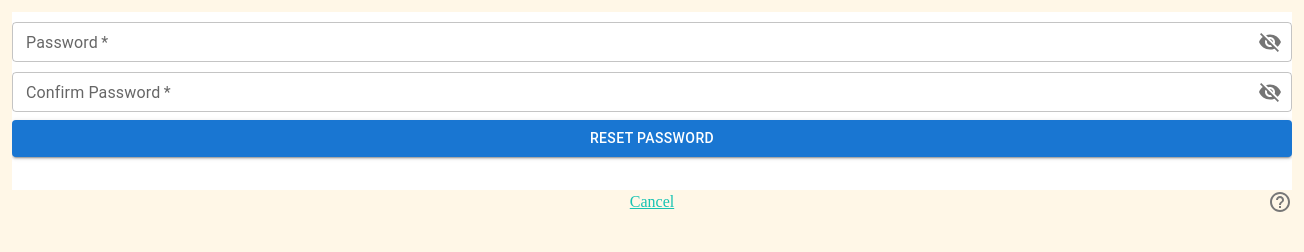
Test case: PasswordResetForm › shows passwords do not match
The image size is (1304, 252).
Type "fds" into the password field labelled "Confirm Password *" at (627, 92), box [12, 72, 1242, 112]
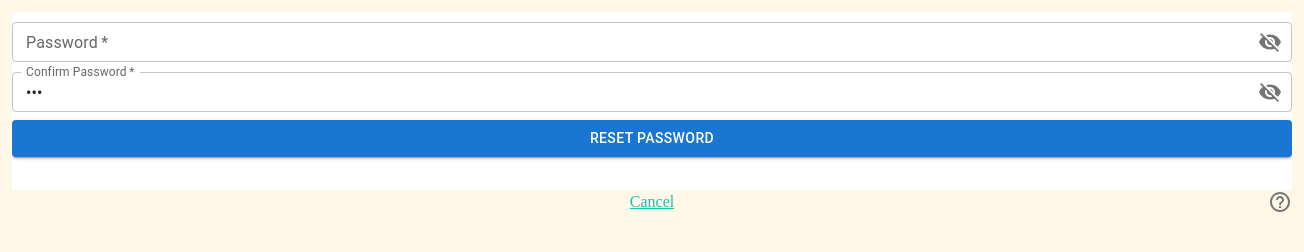
Type "newPassword1!" into the password field labelled "Password *" at (627, 42), box [12, 22, 1242, 62]
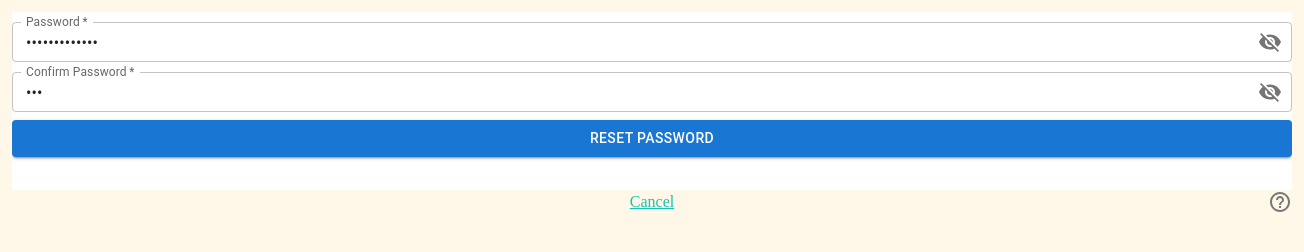
Click the button "Reset Password" at (652, 138), box [12, 120, 1292, 156]
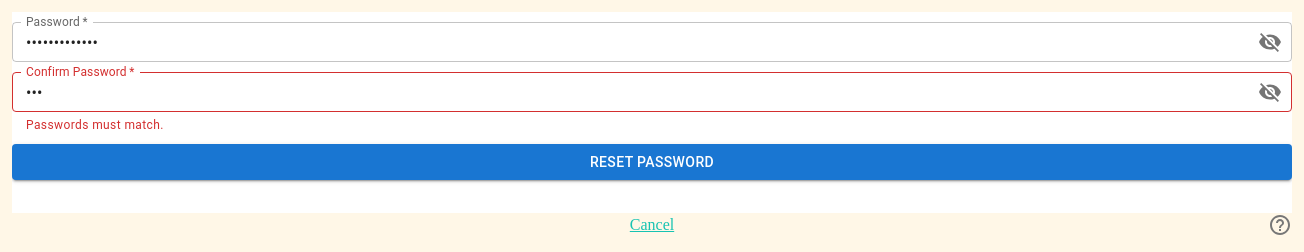
Expected: the text "Passwords must match." is shown, [26, 118, 164, 132]
